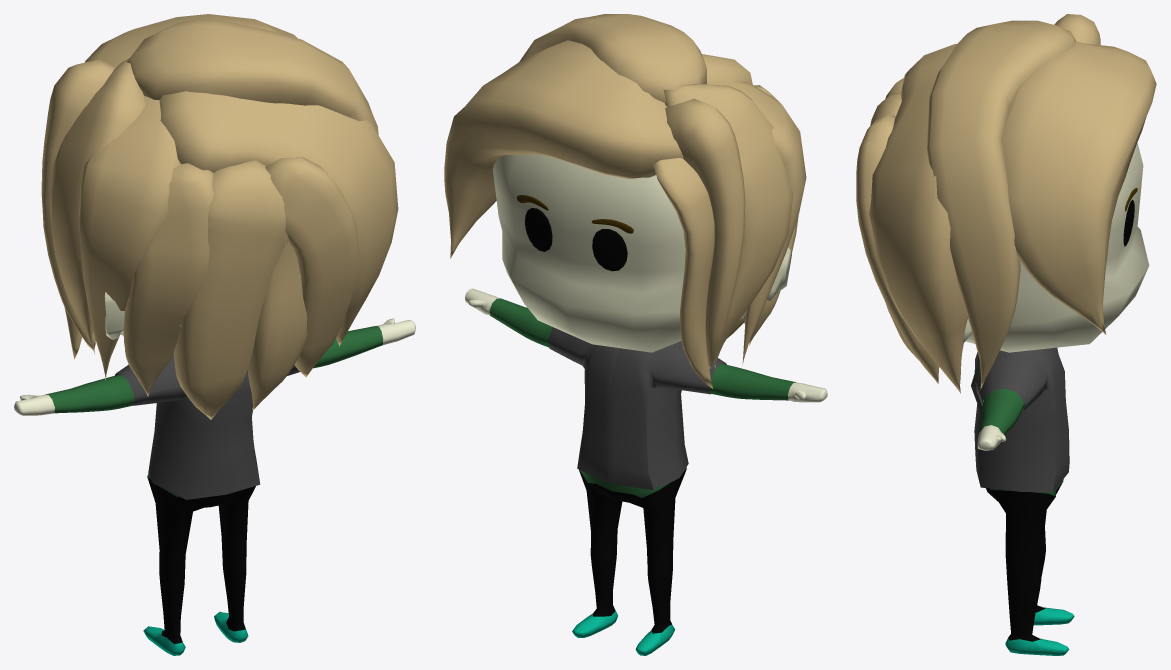
The model's file is bigboy.fbx.
3 renders of one model, left to right at view 1: azimuth 30°, elevation 25°; view 2: azimuth 150°, elevation 25°; view 3: azimuth 270°, elevation 25°, orthographic. The views are drawn at different scales.
Visible parts, largest first — view 1: polySurface19, polySurface21, polySurface15, polySurface18, polySurface12, polySurface20, polySurface24, polySurface22, polySurface17, polySurface23, polySurface16, polySurface13 (+1 smaller); view 2: polySurface12, polySurface13, polySurface24, polySurface17, polySurface16, polySurface15, polySurface14, polySurface18, polySurface8, polySurface19, polySurface9, polySurface20; view 3: polySurface13, polySurface15, polySurface12, polySurface19, polySurface24, polySurface22, polySurface16, polySurface21.
Part boxes in pixels (left/top/right/bottom): polySurface19: left=159, top=91, right=398, bottom=345; polySurface21: left=173, top=160, right=288, bottom=419; polySurface15: left=127, top=18, right=378, bottom=134; polySurface18: left=79, top=96, right=180, bottom=379; polySurface12: left=14, top=318, right=415, bottom=655; polySurface20: left=123, top=163, right=213, bottom=396; polySurface24: left=115, top=353, right=299, bottom=499; polySurface22: left=265, top=157, right=359, bottom=377; polySurface17: left=50, top=58, right=145, bottom=353; polySurface23: left=247, top=235, right=307, bottom=410; polySurface16: left=41, top=59, right=116, bottom=350; polySurface13: left=85, top=14, right=297, bottom=66; polySurface12: left=465, top=155, right=827, bottom=655; polySurface13: left=444, top=40, right=683, bottom=258; polySurface24: left=548, top=327, right=726, bottom=490; polySurface17: left=663, top=83, right=793, bottom=367; polySurface16: left=665, top=98, right=745, bottom=368; polySurface15: left=519, top=14, right=706, bottom=102; polySurface14: left=653, top=158, right=714, bottom=388; polySurface18: left=707, top=81, right=806, bottom=365; polySurface8: left=592, top=229, right=627, bottom=271; polySurface19: left=702, top=54, right=752, bottom=84; polySurface9: left=525, top=208, right=552, bottom=251; polySurface20: left=743, top=85, right=798, bottom=345; polySurface13: left=1002, top=41, right=1156, bottom=334; polySurface15: left=927, top=20, right=1075, bottom=389; polySurface12: left=965, top=143, right=1149, bottom=655; polySurface19: left=869, top=43, right=967, bottom=393; polySurface24: left=971, top=347, right=1069, bottom=492; polySurface22: left=856, top=114, right=939, bottom=383; polySurface16: left=1054, top=14, right=1100, bottom=45; polySurface21: left=870, top=93, right=901, bottom=125.
Size of the model in its own units: 211 by 324 by 146.
